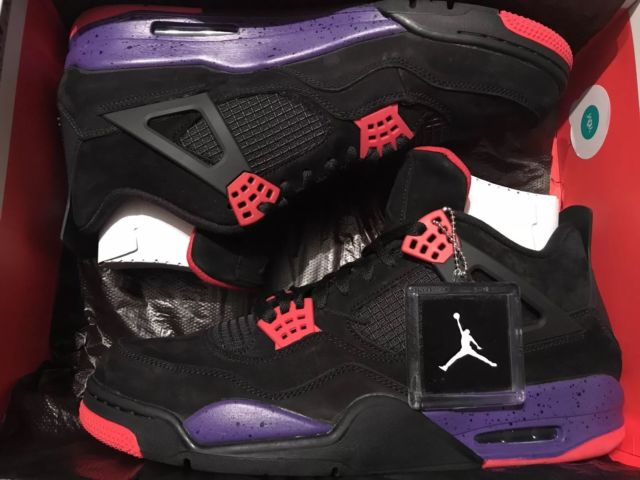Air Jordan 4 Raptors: (66, 144, 634, 471), (36, 1, 590, 302)
